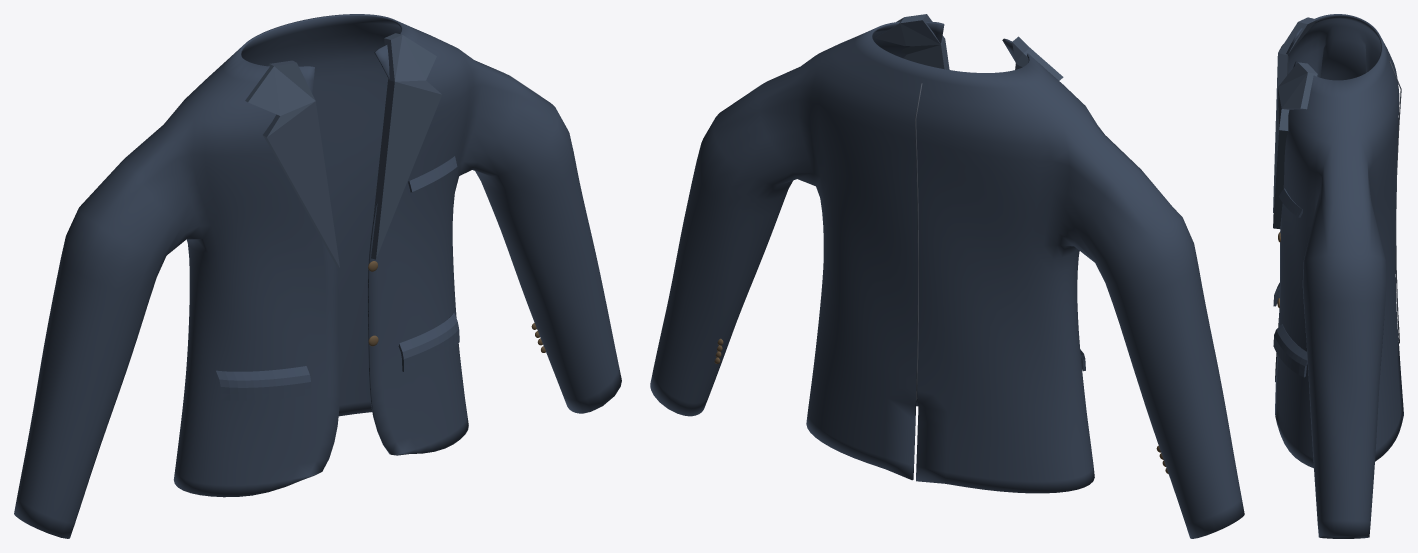
3 views of the same model, side by side, from view 1: azimuth 30°, elevation 25°; view 2: azimuth 150°, elevation 25°; view 3: azimuth 270°, elevation 25° (orthographic). The views are drawn at different scales.
Parts seen in each view (by area): view 1: Continuous open-front tailored torso and cuff sleeves, Left real notched lapel, Right real notched lapel, Left pocket flap, Right pocket flap; view 2: Continuous open-front tailored torso and cuff sleeves, Right real notched lapel; view 3: Continuous open-front tailored torso and cuff sleeves, Right real notched lapel, Left real notched lapel, Right pocket flap, Center-back tailored seam, Breast welt pocket raised lip.
Boxes of the visible parts, x1,y1,x2,y2 form: Continuous open-front tailored torso and cuff sleeves: (14, 14, 621, 538); Left real notched lapel: (245, 60, 339, 267); Right real notched lapel: (371, 33, 441, 259); Left pocket flap: (216, 366, 311, 400); Right pocket flap: (398, 312, 459, 371); Continuous open-front tailored torso and cuff sleeves: (650, 21, 1244, 538); Right real notched lapel: (875, 14, 949, 69); Continuous open-front tailored torso and cuff sleeves: (1275, 14, 1403, 538); Right real notched lapel: (1273, 62, 1317, 228); Left real notched lapel: (1273, 17, 1317, 212); Right pocket flap: (1273, 324, 1307, 377); Center-back tailored seam: (1389, 60, 1401, 343); Breast welt pocket raised lip: (1278, 188, 1302, 217).
Bounding box in the file's own units: 0.9699 × 0.6801 × 0.2081.
